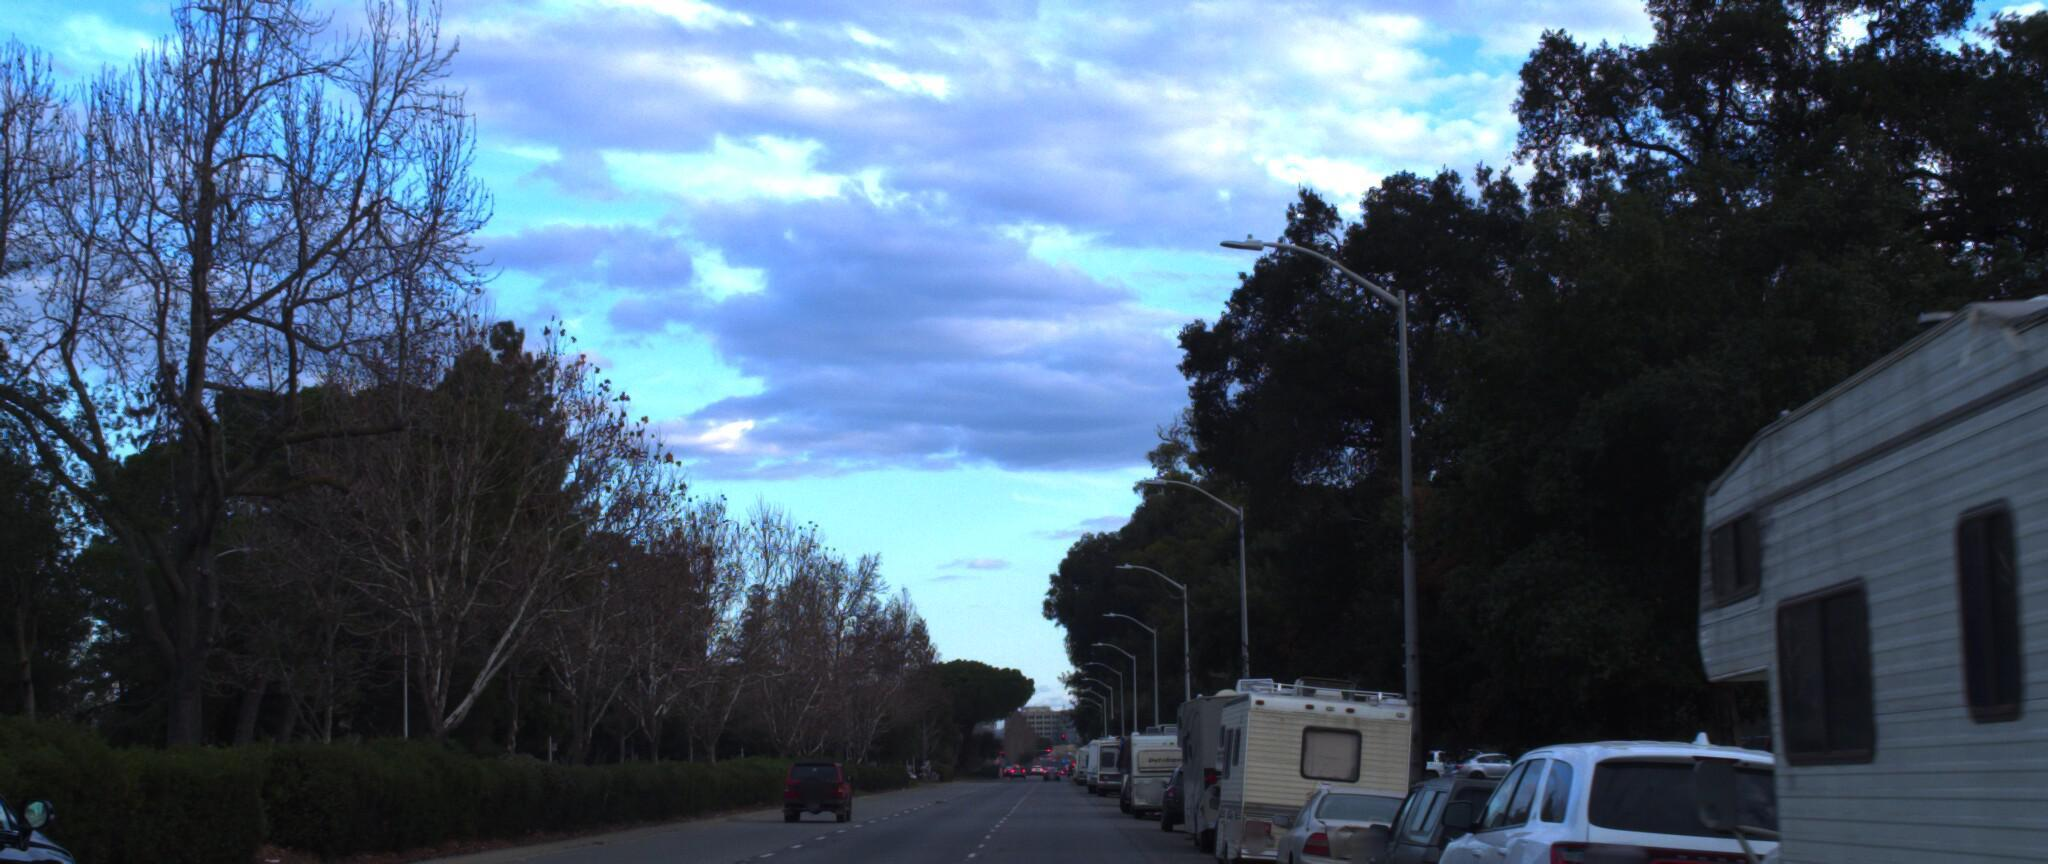car: (1383, 726, 1910, 864), (1320, 757, 1693, 864), (1240, 773, 1448, 864), (0, 709, 114, 864), (776, 743, 857, 812)
other_vehicle: (1644, 33, 2048, 864), (1183, 658, 1435, 864), (1157, 658, 1351, 850)
